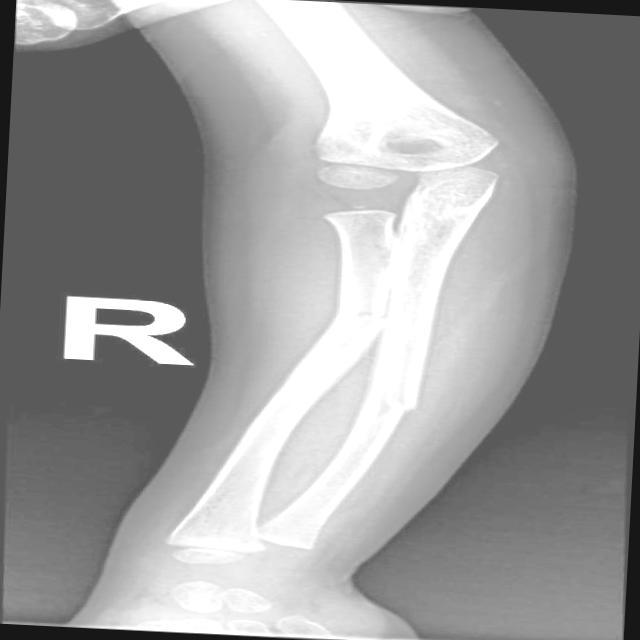GreenStick Fracture: (371, 375, 424, 429), (358, 304, 391, 342)
